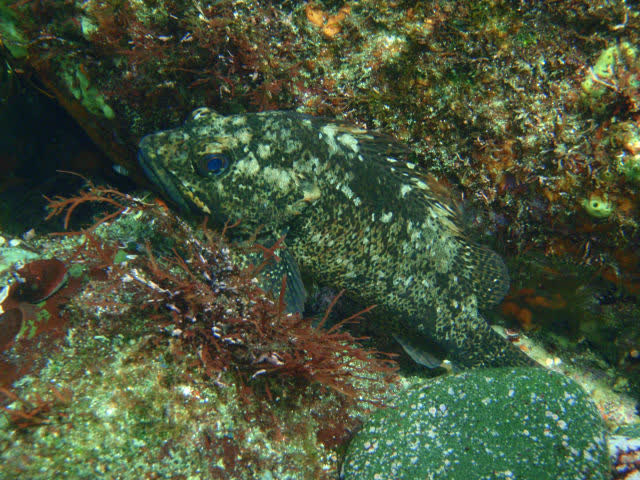saba: (139, 109, 532, 382)
